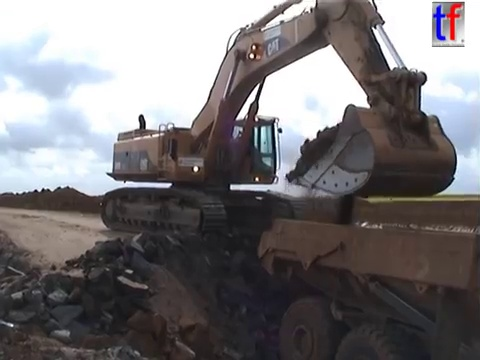excavator: (97, 1, 461, 246)
truck: (253, 196, 480, 360)
